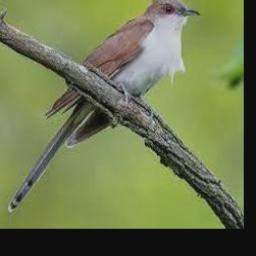Cuckoo: (7, 0, 200, 212)
